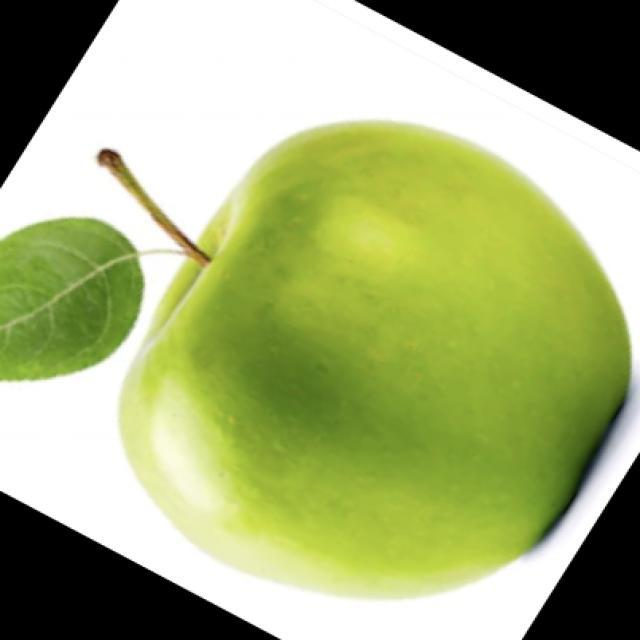Fresh Apple: (117, 119, 623, 606)
